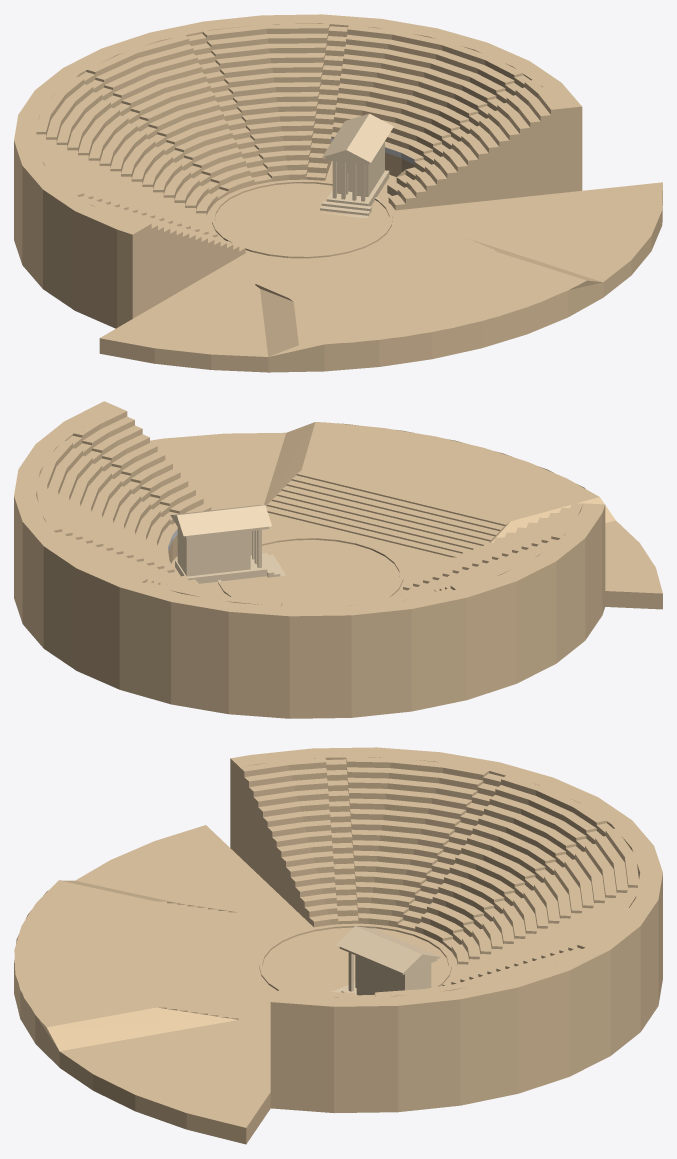
The model's file is Amphitheater_old.fbx.
The picture shows the model from 3 angles, top to bottom: view 1: azimuth 30°, elevation 25°; view 2: azimuth 150°, elevation 25°; view 3: azimuth 270°, elevation 25°; orthographic projection. The views are drawn at different scales.
Visible parts, largest first — view 1: Amphitheater; view 2: Amphitheater; view 3: Amphitheater.
Boxes of the visible parts, <box> form: Amphitheater: <box>14,14,662,372</box>; Amphitheater: <box>14,401,662,718</box>; Amphitheater: <box>14,747,662,1144</box>.
Size of the model in its own units: 12589 by 2060 by 11393.
